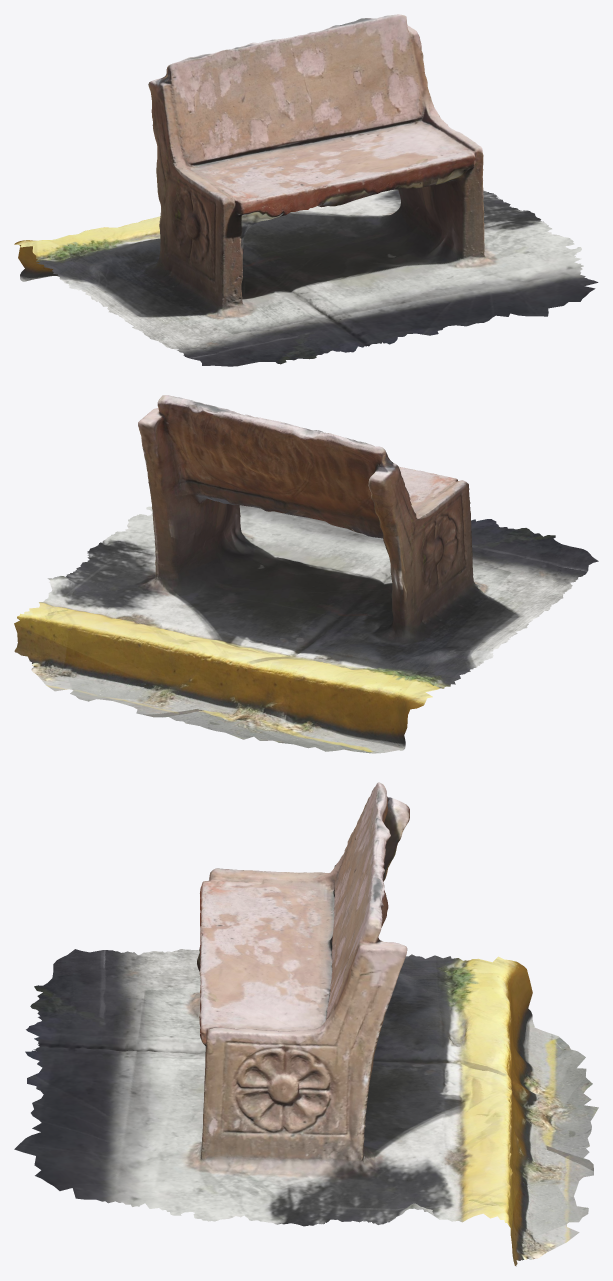
The model's file is street_bench_3dst17.glb.
3 renders of one model, top to bottom at view 1: azimuth 30°, elevation 25°; view 2: azimuth 150°, elevation 25°; view 3: azimuth 270°, elevation 25°, orthographic. The views are drawn at different scales.
Parts seen in each view (by area): view 1: CubeObject; view 2: CubeObject; view 3: CubeObject.
Boxes of the visible parts, left/top/right/bottom form: CubeObject: left=14, top=14, right=598, bottom=366; CubeObject: left=14, top=395, right=598, bottom=753; CubeObject: left=14, top=782, right=598, bottom=1266.
Size of the model in its own units: 25.65 by 14.17 by 24.59.
Materials: 1 (1 with a texture image).
